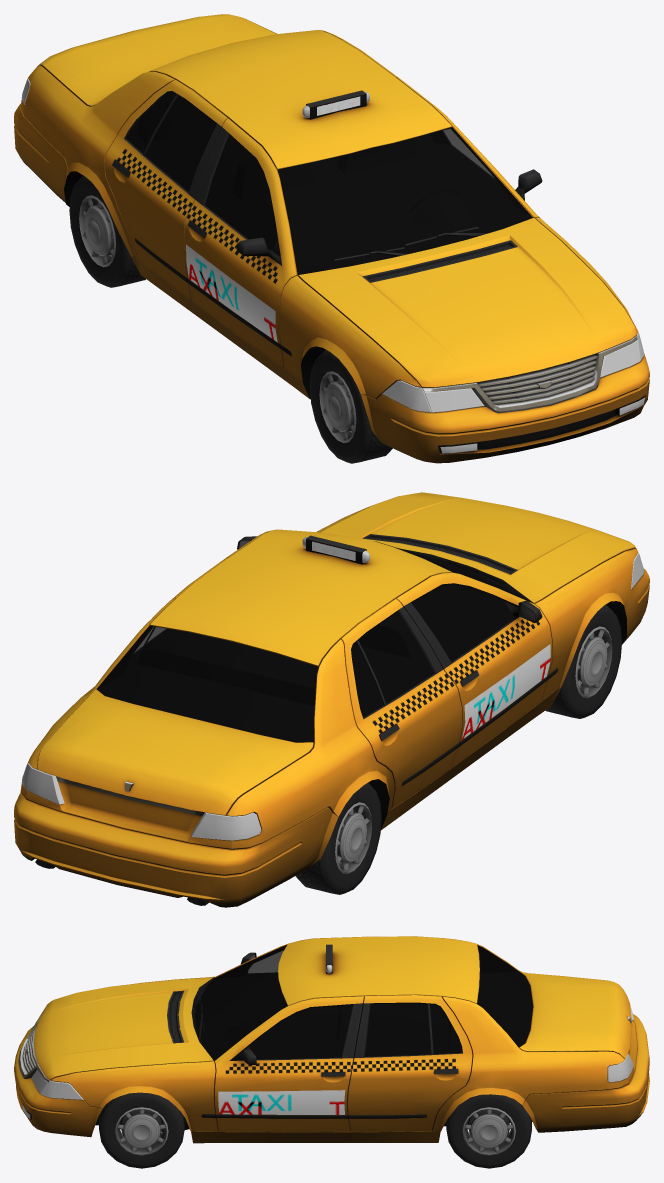
File: taxisedan.fbx
3 views of the same model, one above another, from view 1: azimuth 30°, elevation 25°; view 2: azimuth 150°, elevation 25°; view 3: azimuth 270°, elevation 25° (orthographic). The views are drawn at different scales.
Parts seen in each view (by area): view 1: taxi, taxi_wheelFR, taxi_wheelRR; view 2: taxi, taxi_wheelRR, taxi_wheelFR; view 3: taxi, taxi_wheelFL, taxi_wheelRL.
Boxes of the visible parts, x1=… form: taxi: x1=14, y1=14, x2=649, y2=463; taxi_wheelFR: x1=309, y1=349, x2=392, y2=463; taxi_wheelRR: x1=69, y1=175, x2=145, y2=287; taxi: x1=14, y1=492, x2=649, y2=907; taxi_wheelRR: x1=295, y1=783, x2=381, y2=894; taxi_wheelFR: x1=545, y1=605, x2=621, y2=718; taxi: x1=14, y1=936, x2=649, y2=1143; taxi_wheelFL: x1=99, y1=1092, x2=184, y2=1168; taxi_wheelRL: x1=446, y1=1094, x2=531, y2=1168.
Size of the model in its own units: 2089 by 1572 by 5316.
